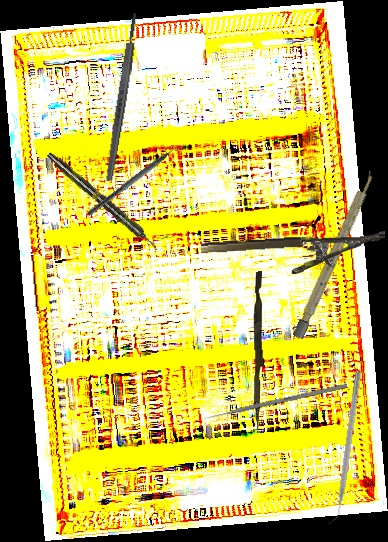Chopper: (85, 138, 190, 223), (325, 369, 362, 526)
Handpiece: (44, 149, 162, 254)
Needle Holder: (201, 231, 387, 279)
Pusher: (198, 382, 348, 423), (252, 271, 265, 429)
Scalpel Handle: (292, 169, 377, 340), (103, 12, 141, 182)
